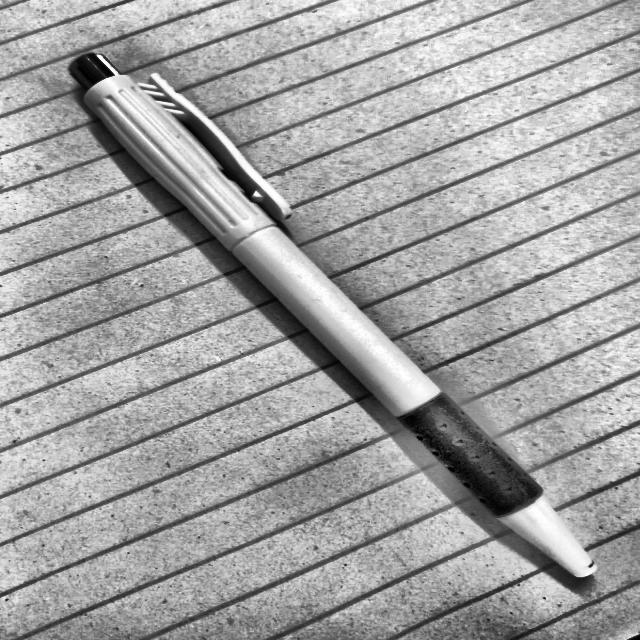Pen: (61, 36, 635, 605)
